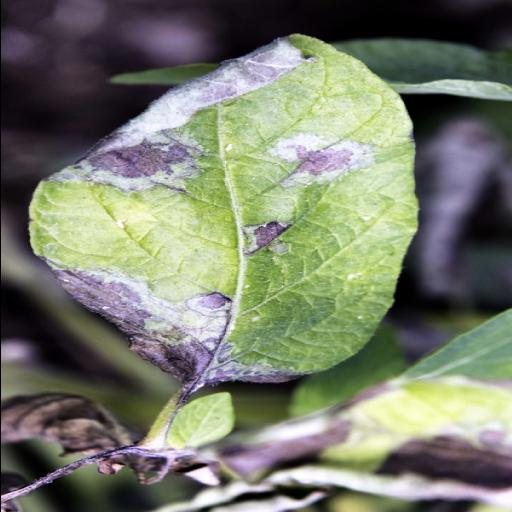disease_tomato: (26, 30, 420, 390)
